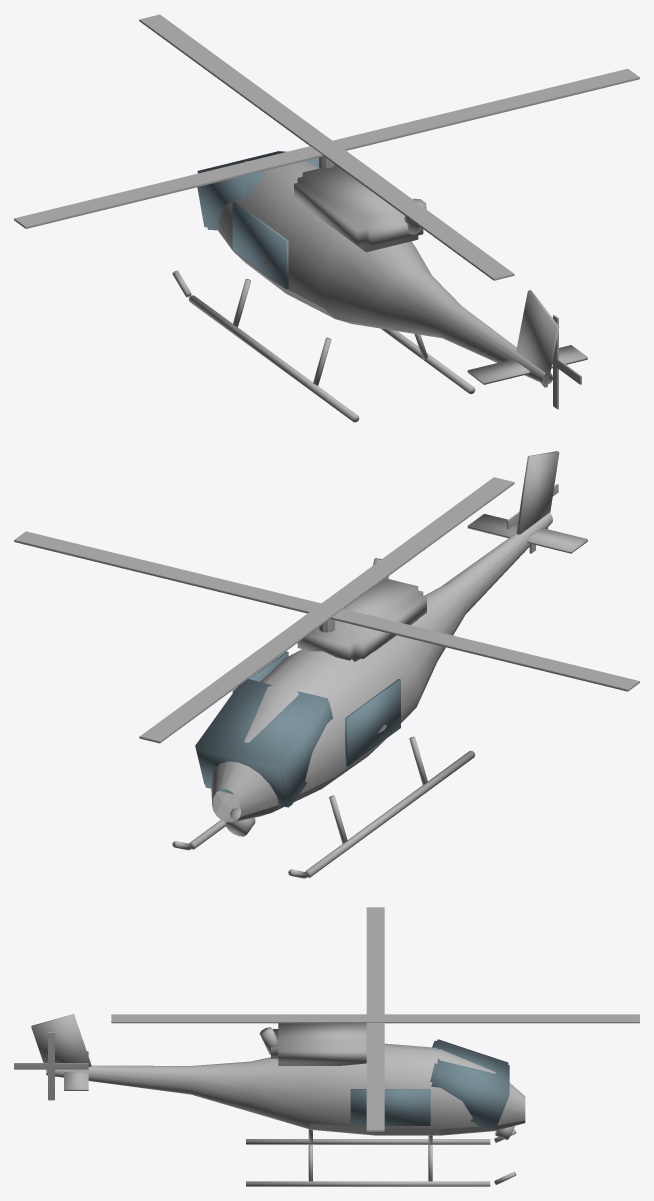
Rendered from helicopter.glb.
3 renders of one model, top to bottom at view 1: azimuth 30°, elevation 25°; view 2: azimuth 150°, elevation 25°; view 3: azimuth 270°, elevation 25°, orthographic. The views are drawn at different scales.
Visible parts, largest first — view 1: body, ROTOR_main, glass, dark, ROTOR_tail; view 2: body, ROTOR_main, glass, dark, stripe; view 3: body, ROTOR_main, glass, dark, stripe, ROTOR_tail.
Part boxes in pixels (left/top/right/bottom): body: left=218, top=161, right=587, bottom=387; ROTOR_main: left=14, top=14, right=639, bottom=280; glass: left=197, top=151, right=319, bottom=289; dark: left=172, top=198, right=475, bottom=422; ROTOR_tail: left=552, top=315, right=581, bottom=409; body: left=211, top=451, right=587, bottom=822; ROTOR_main: left=14, top=477, right=639, bottom=743; glass: left=195, top=651, right=400, bottom=807; dark: left=172, top=558, right=475, bottom=878; stripe: left=213, top=745, right=379, bottom=820; body: left=31, top=1014, right=525, bottom=1130; ROTOR_main: left=111, top=907, right=639, bottom=1131; glass: left=350, top=1039, right=509, bottom=1129; dark: left=246, top=1027, right=516, bottom=1186; stripe: left=251, top=1111, right=525, bottom=1135; ROTOR_tail: left=14, top=1032, right=88, bottom=1100.
Size of the model in its own units: 10.6 by 3.34 by 12.55.
